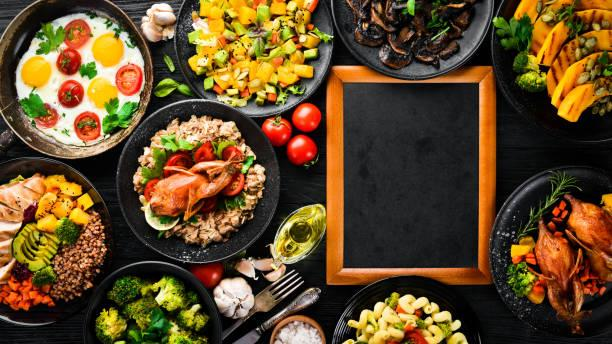Braised Crucian Carp: (116, 99, 278, 259), (0, 2, 149, 160), (488, 166, 612, 336), (2, 156, 117, 323), (169, 2, 325, 121), (492, 0, 612, 146), (333, 0, 495, 80)
